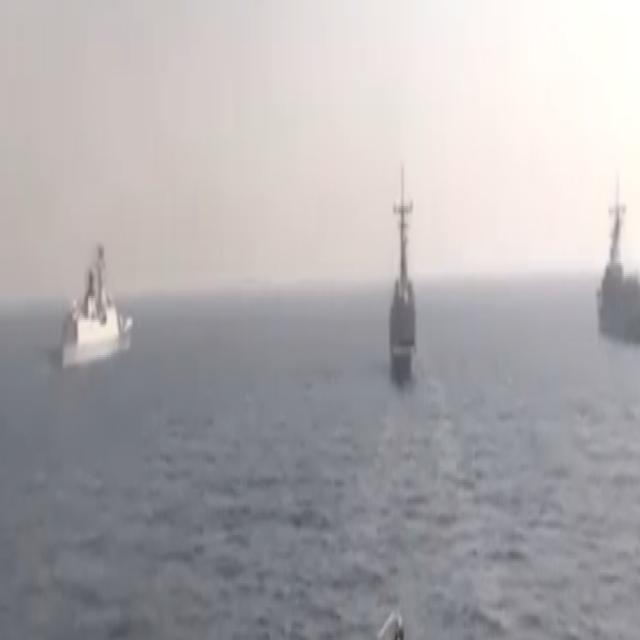navalvessels: (43, 237, 131, 382), (384, 152, 422, 382), (597, 166, 640, 348)
